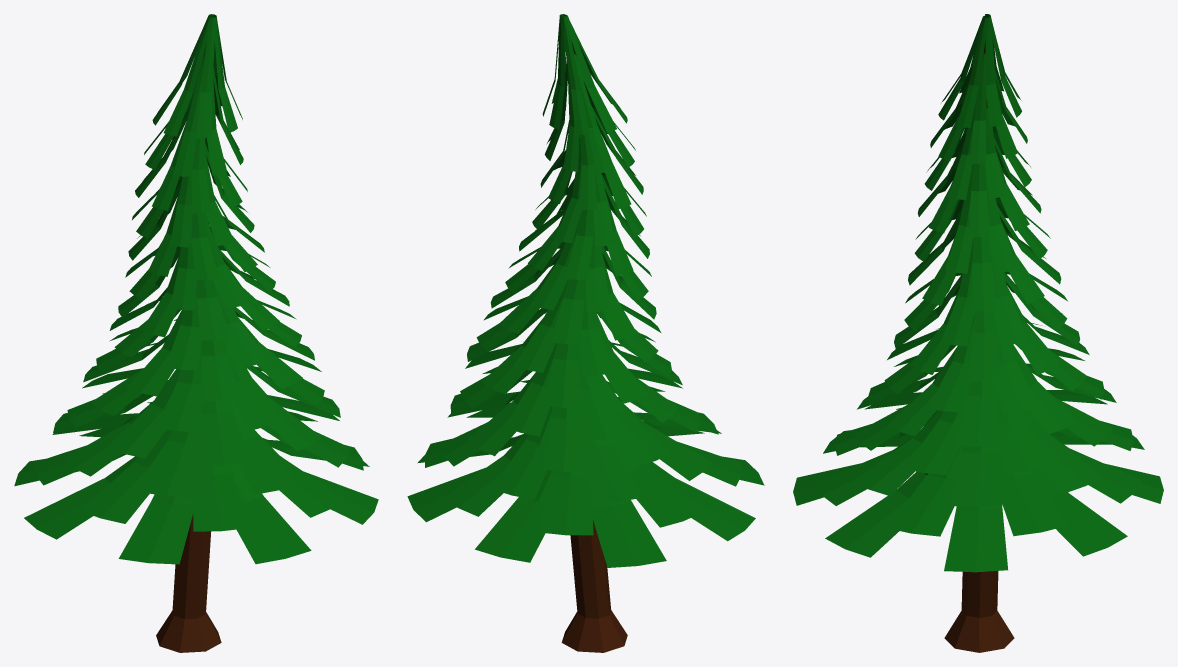
The model's file is Connifer.fbx.
3 renders of one model, left to right at view 1: azimuth 30°, elevation 25°; view 2: azimuth 150°, elevation 25°; view 3: azimuth 270°, elevation 25°, orthographic. The views are drawn at different scales.
Parts seen in each view (by area): view 1: Connifer; view 2: Connifer; view 3: Connifer.
Part boxes in pixels (x1=…): Connifer: x1=14, y1=14, x2=378, y2=652; Connifer: x1=407, y1=14, x2=764, y2=652; Connifer: x1=793, y1=14, x2=1163, y2=652.
Size of the model in its own units: 0.5661 by 1.05 by 0.5545.
